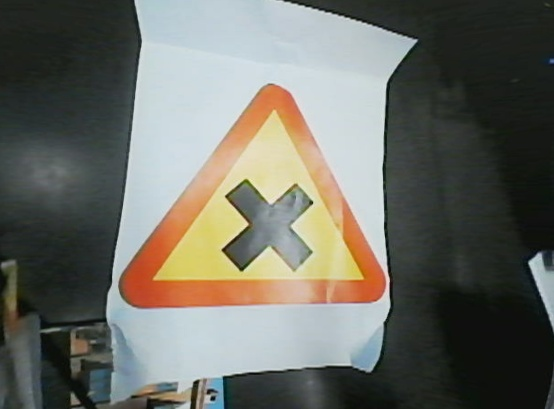junction: (106, 82, 390, 305)
